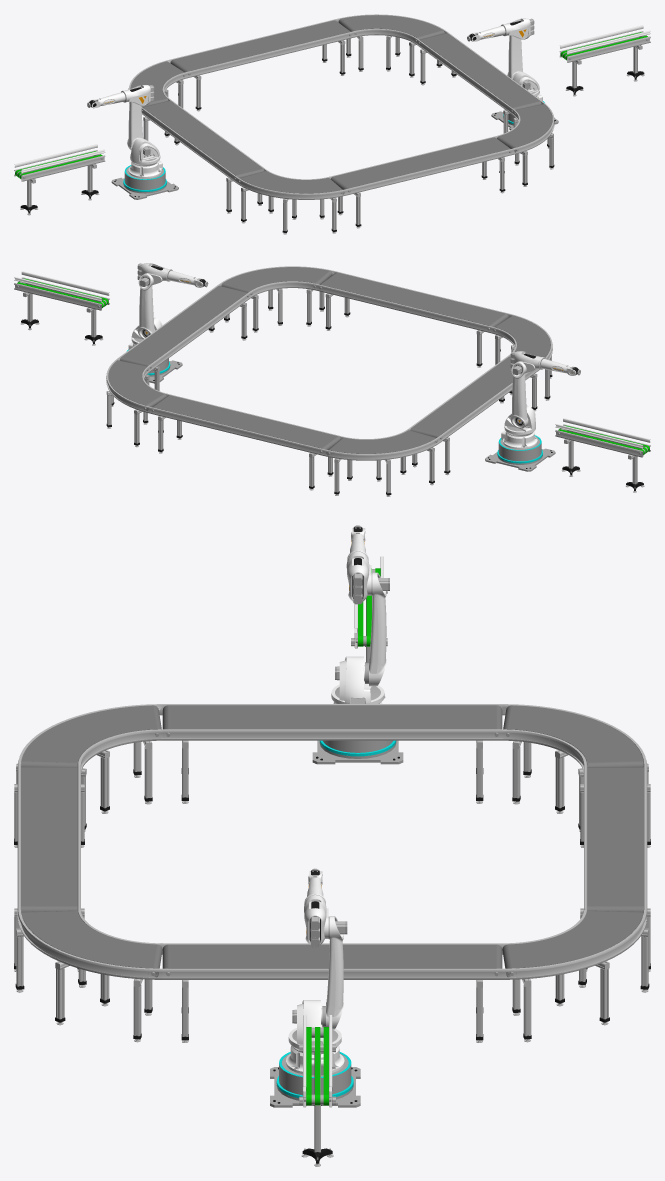
The model's file is Closed Conveyor Loop.glb.
3 views of the same model, one above another, from view 1: azimuth 30°, elevation 25°; view 2: azimuth 150°, elevation 25°; view 3: azimuth 270°, elevation 25° (orthographic). The views are drawn at different scales.
Parts seen in each view (by area): view 1: Mesh [05Lg], Mesh [05vg], Mesh [075g], Mesh [06Vg], Mesh [07pg], Mesh [03vg], Mesh [038g], Mesh [04ng], Mesh [05Mg], Mesh [04ig], Mesh [076g], Mesh [06Wg] (+16 smaller); view 2: Mesh [05vg], Mesh [05Lg], Mesh [075g], Mesh [06Vg], Mesh [04ig], Mesh [038g], Mesh [03vg], Mesh [05Ng], Mesh [04mg], Mesh [07pg], Mesh [03zg], Mesh [06Wg] (+16 smaller); view 3: Mesh [06Vg], Mesh [05Lg], Mesh [05vg], Mesh [075g], Mesh [05wg], Mesh [03vg], Mesh [038g], Mesh [07pg], Mesh [04ig], Mesh [06Xg], Mesh [03Cg], Mesh [02Pg] (+7 smaller).
Part boxes in pixels (box(x1,y1,x2,y2)): Mesh [05Lg]: box(333, 137, 509, 188); Mesh [05vg]: box(173, 20, 349, 71); Mesh [075g]: box(420, 33, 539, 107); Mesh [06Vg]: box(143, 101, 262, 175); Mesh [07pg]: box(240, 171, 341, 193); Mesh [03vg]: box(342, 15, 442, 37); Mesh [038g]: box(500, 104, 552, 147); Mesh [04ng]: box(346, 148, 513, 195); Mesh [05Mg]: box(186, 31, 353, 78); Mesh [04ig]: box(130, 61, 183, 101); Mesh [076g]: box(235, 176, 347, 199); Mesh [06Wg]: box(416, 39, 513, 114); Mesh [05vg]: box(153, 395, 337, 448); Mesh [05Lg]: box(321, 272, 505, 325); Mesh [075g]: box(121, 286, 247, 364); Mesh [06Vg]: box(412, 357, 512, 434); Mesh [04ig]: box(329, 430, 435, 453); Mesh [038g]: box(223, 267, 329, 290); Mesh [03vg]: box(108, 360, 163, 405); Mesh [05Ng]: box(149, 407, 324, 455); Mesh [04mg]: box(317, 284, 491, 332); Mesh [07pg]: box(495, 315, 550, 357); Mesh [03zg]: box(323, 436, 440, 460); Mesh [06Wg]: box(148, 292, 250, 371); Mesh [06Vg]: box(168, 705, 496, 729); Mesh [05Lg]: box(21, 767, 77, 906); Mesh [05vg]: box(587, 767, 643, 906); Mesh [075g]: box(168, 944, 496, 968); Mesh [05wg]: box(162, 729, 502, 740); Mesh [03vg]: box(508, 911, 643, 968); Mesh [038g]: box(21, 911, 156, 968); Mesh [07pg]: box(21, 705, 156, 762); Mesh [04ig]: box(508, 705, 643, 762); Mesh [06Xg]: box(162, 968, 502, 979); Mesh [03Cg]: box(502, 908, 647, 979); Mesh [02Pg]: box(17, 908, 162, 979).
Bounding box in the file's own units: 11.09 × 1.99 × 5.63.
